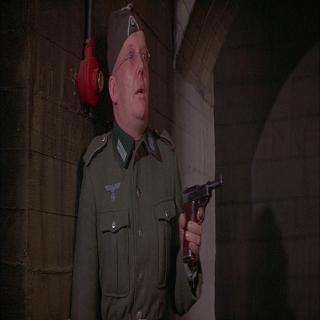gun: (178, 175, 222, 258)
